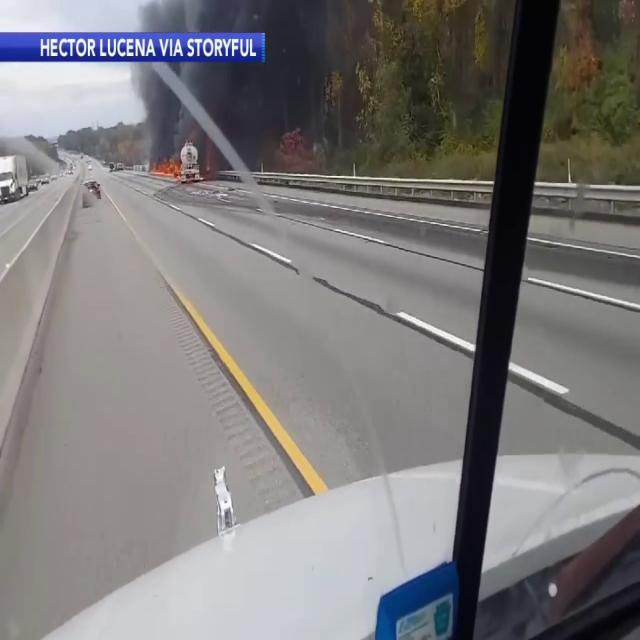Fire: (150, 152, 184, 181)
Smoke: (126, 0, 493, 165), (124, 0, 350, 161)
